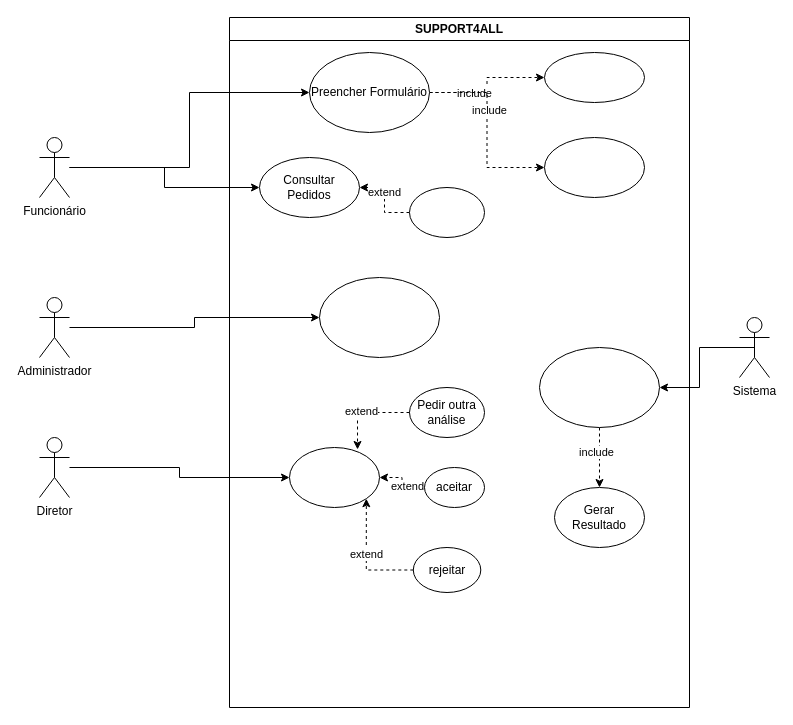
The diagram is 793 pixels wide and 725 high, and some of its shapes have lost their labels. The box of each missing label's shape, as (x1, y1, x2, y2) in pixels:
Alterar Formulário: (408, 186, 484, 238)
Analisar Pedidos: (288, 446, 380, 508)
Calcular Orçamento: (538, 346, 660, 428)
data, nome, etc..: (544, 52, 644, 102)
Efetuar Registos de Funcionários: (318, 276, 440, 358)
Enviar Formulário: (544, 136, 644, 198)
